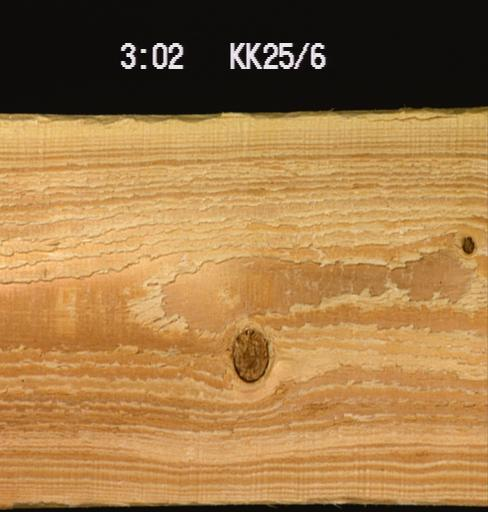dry_knot: (228, 324, 270, 384), (458, 232, 475, 257)
split: (365, 113, 461, 130)
wave: (0, 111, 323, 126), (307, 495, 485, 508)
